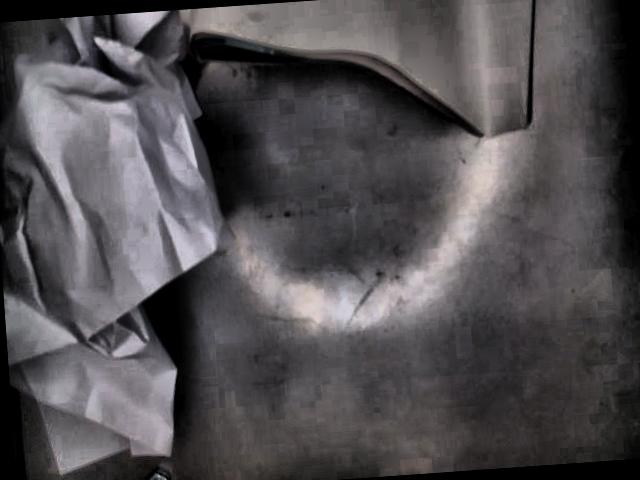Paper: (0, 10, 232, 476), (187, 0, 538, 143)
